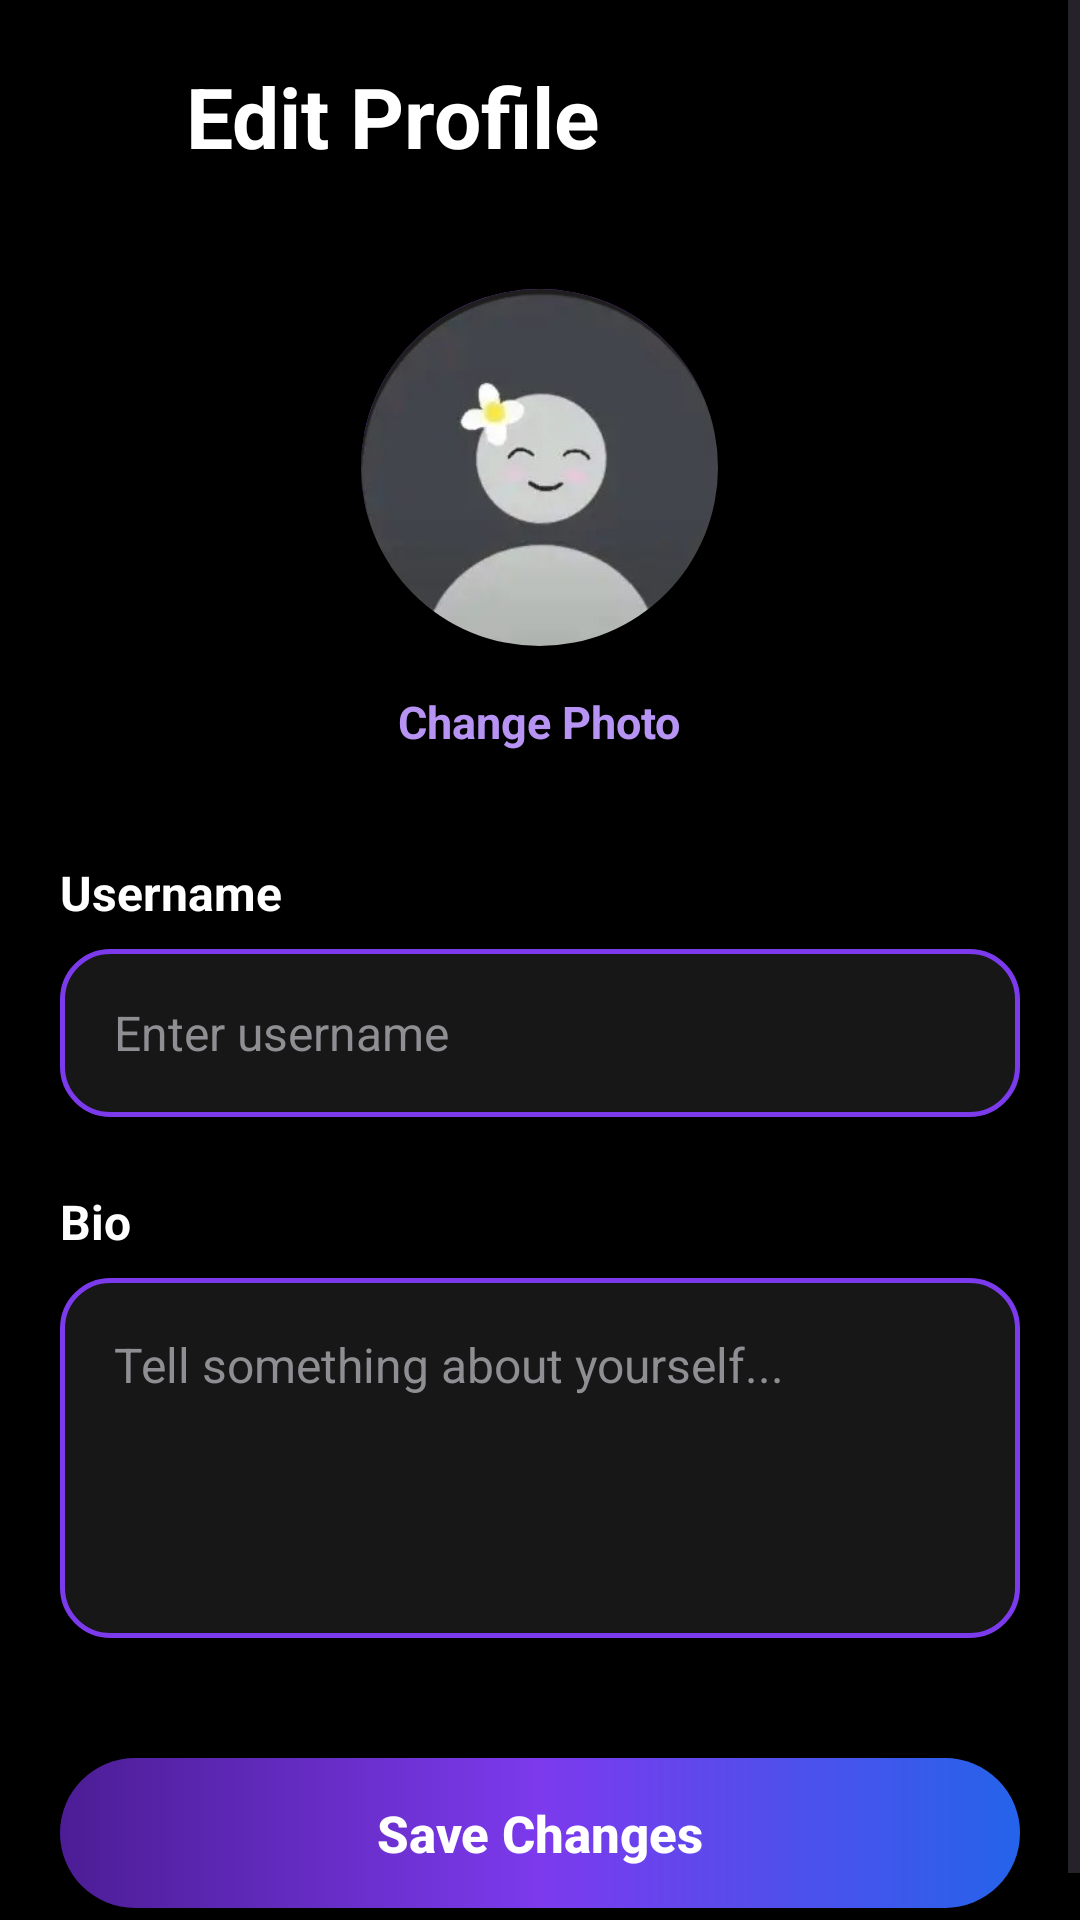

Icon bounding boxes for this 1080px×1920px phone screenshot, format (x1, y1, x2, y2):
profile demo: (361, 289, 718, 646)
